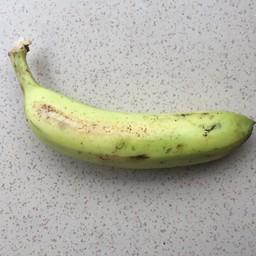Good_banana: (11, 45, 251, 162)
